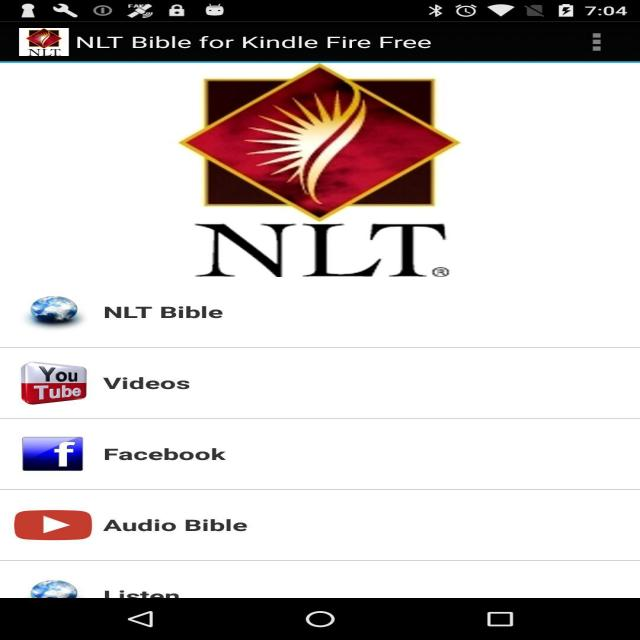button: (3, 256, 460, 594), (10, 599, 640, 640), (590, 36, 624, 66)
icon: (0, 278, 359, 598), (3, 3, 640, 34)
